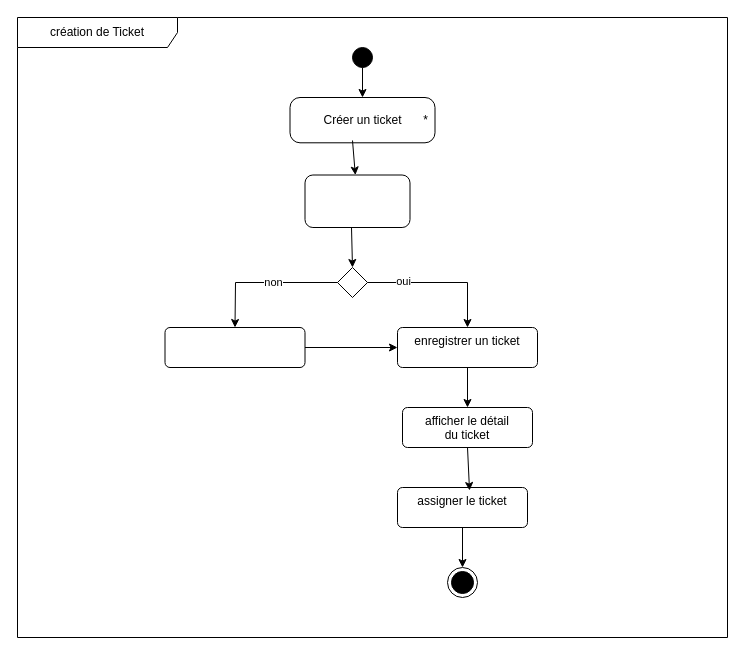
This 745x655 diagram has some shape labels left out. Each missing label, with the centre of its shape:
"définir un tag" belongs at point (234, 347).
"tag disponible ?" belongs at point (357, 201).
